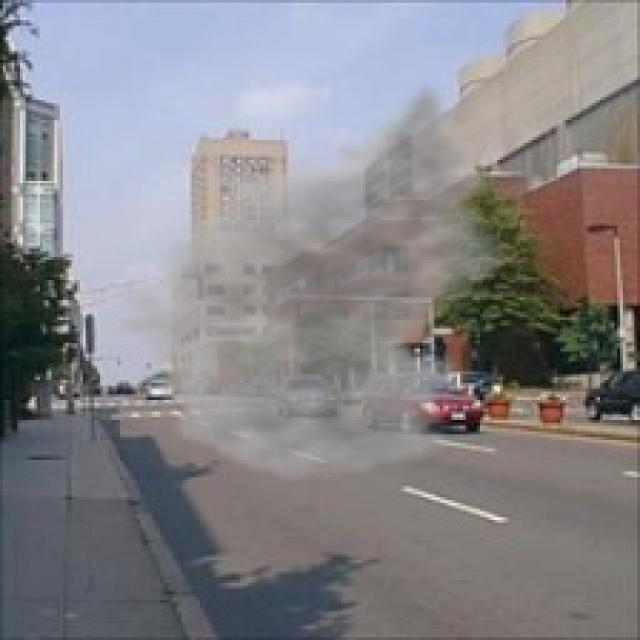smoke: (103, 80, 517, 486)
